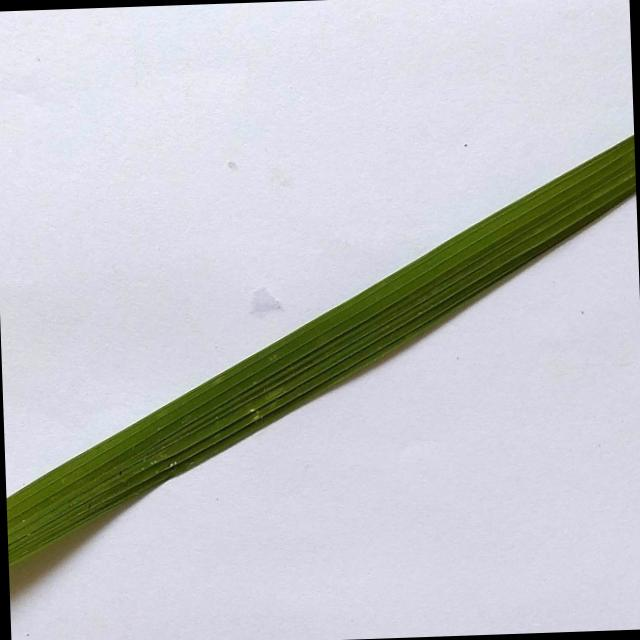Rice_Healthy: (6, 135, 635, 565)
